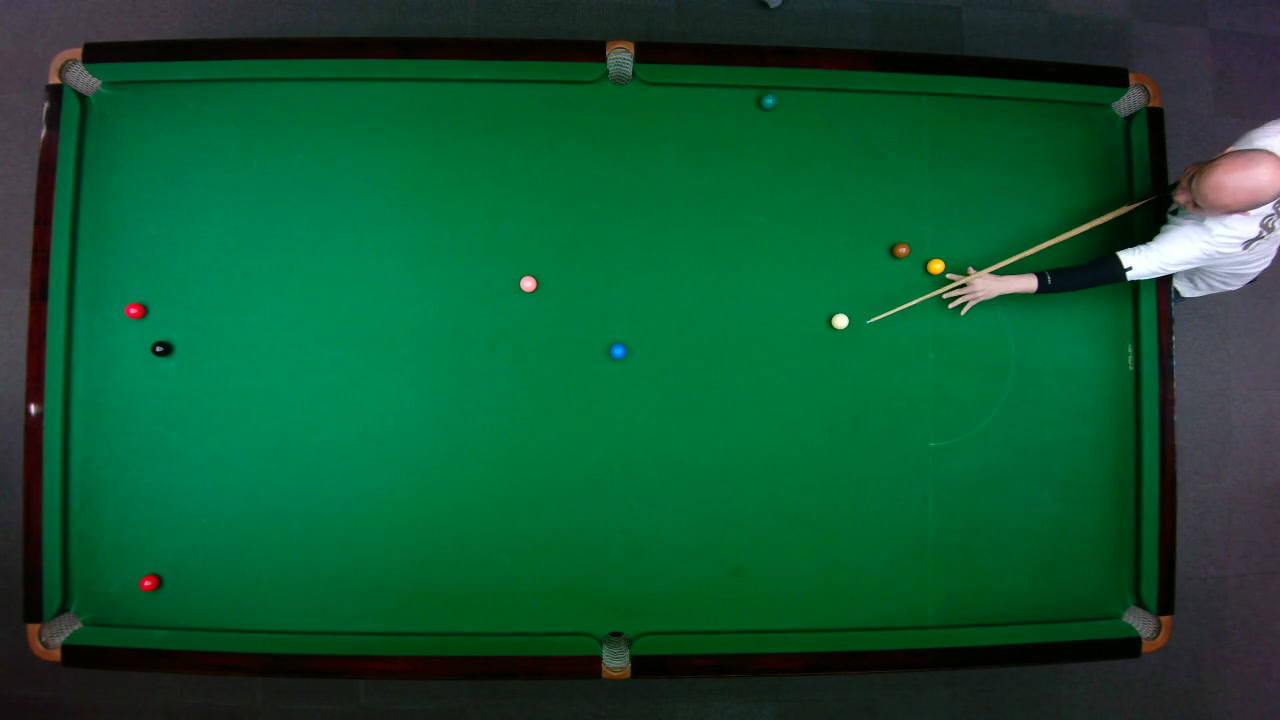bag: (25, 609, 83, 661), (45, 46, 102, 96), (1119, 603, 1171, 652), (1108, 71, 1161, 118), (601, 629, 630, 680), (605, 38, 633, 85)
black: (149, 339, 171, 357)
blue: (608, 342, 626, 359)
brown: (890, 241, 910, 258)
cue: (864, 185, 1172, 325)
green: (759, 93, 776, 110)
pink: (517, 273, 537, 293)
red: (137, 572, 161, 592), (123, 301, 146, 319)
white: (829, 312, 849, 330)
yellow: (925, 257, 945, 274)
zone: (927, 262, 1014, 447)
